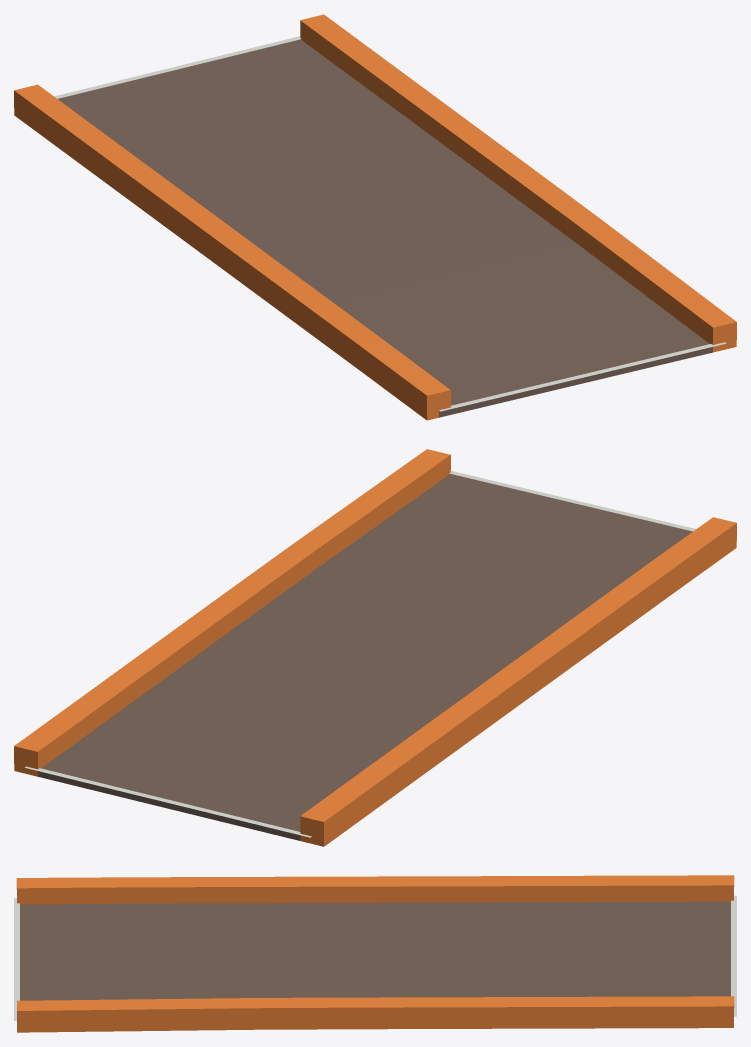
Rendered from SM_MP_Film_B_4_2.fbx.
3 renders of one model, top to bottom at view 1: azimuth 30°, elevation 25°; view 2: azimuth 150°, elevation 25°; view 3: azimuth 270°, elevation 25°, orthographic. The views are drawn at different scales.
Parts seen in each view (by area): view 1: SM_MP_Film_B_4_2; view 2: SM_MP_Film_B_4_2; view 3: SM_MP_Film_B_4_2.
Part boxes in pixels (x1,y1,x2,y2): SM_MP_Film_B_4_2: (14,14,736,420); SM_MP_Film_B_4_2: (14,449,736,846); SM_MP_Film_B_4_2: (14,875,736,1032).
Size of what is drawn, in the model's own units: 260 by 605 by 24.25.
